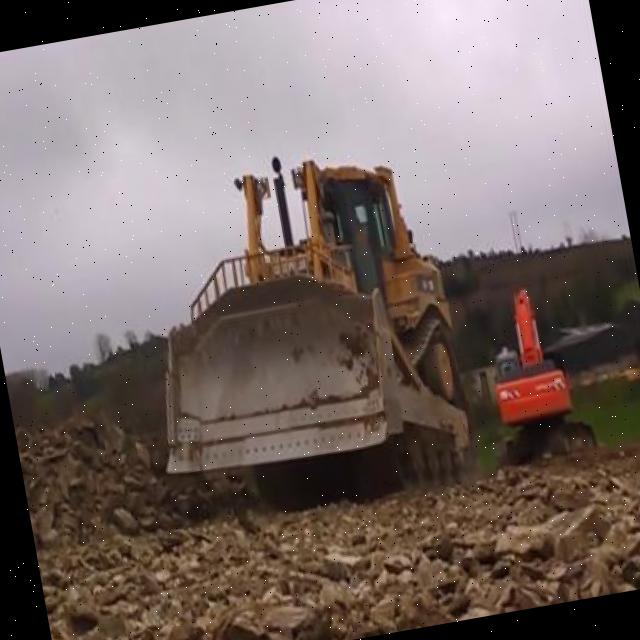Bulldozer: (111, 123, 490, 539)
Excavator: (476, 276, 598, 472)
